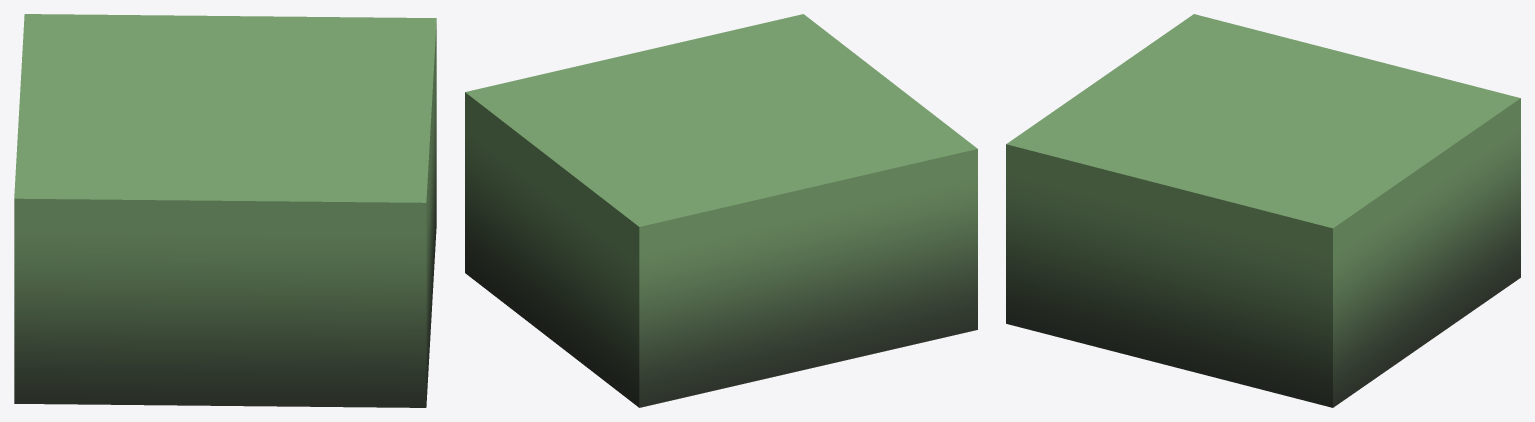
Rendered from Plat01.026.glb.
The picture shows the model from 3 angles, left to right: view 1: azimuth 30°, elevation 25°; view 2: azimuth 150°, elevation 25°; view 3: azimuth 270°, elevation 25°; orthographic projection. The views are drawn at different scales.
Visible parts, largest first — view 1: Plat01.026; view 2: Plat01.026; view 3: Plat01.026.
Boxes of the visible parts, x1,y1,x2,y2 form: Plat01.026: (14, 14, 436, 407); Plat01.026: (465, 14, 977, 407); Plat01.026: (1006, 14, 1520, 407).
Size of what is drawn, in the model's own units: 4.39 by 1.71 by 4.45.
Materials: 1 (1 with a texture image).
